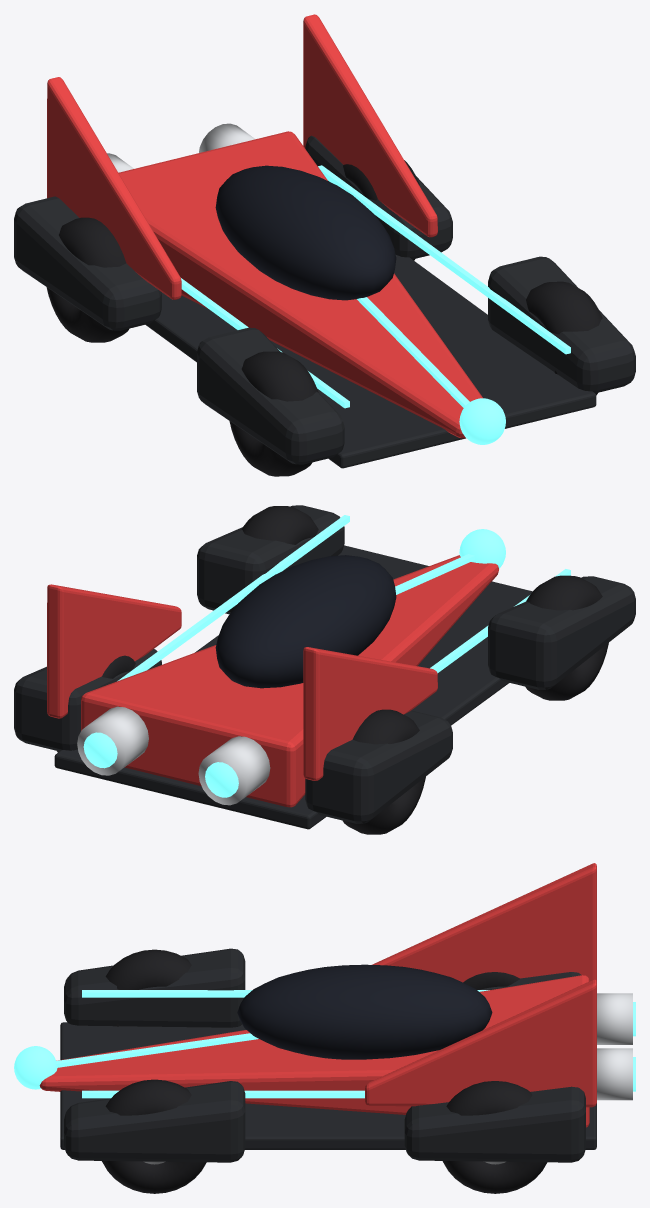
Rendered from kart-laser.glb.
3 views of the same model, one above another, from view 1: azimuth 30°, elevation 25°; view 2: azimuth 150°, elevation 25°; view 3: azimuth 270°, elevation 25° (orthographic). The views are drawn at different scales.
Visible parts, largest first — view 1: Hull.009, Box.045, Ball.009, Hull.013, Hull.010, Hull.011, Hull.012, Hull.014, Wheel_FL.004, Wheel_RL.004, Hull.015, Wheel_FR.004 (+5 smaller); view 2: Hull.009, Ball.009, Box.045, Hull.013, Hull.011, Hull.010, Hull.012, Hull.014, Hull.015, Wheel_FL.004, Wheel_RL.004, Cyl.007 (+9 smaller); view 3: Ball.009, Hull.009, Hull.013, Hull.010, Box.045, Hull.014, Hull.015, Hull.011, Wheel_FR.004, Wheel_RR.004, Wheel_FL.004, Cyl.009 (+7 smaller).
Boxes of the visible parts, bbox=[...] form: Hull.009: bbox=[118, 131, 482, 438]; Box.045: bbox=[145, 255, 596, 468]; Ball.009: bbox=[215, 165, 396, 300]; Hull.013: bbox=[303, 14, 437, 237]; Hull.010: bbox=[47, 77, 181, 299]; Hull.011: bbox=[197, 327, 344, 464]; Hull.012: bbox=[14, 196, 161, 330]; Hull.014: bbox=[488, 256, 635, 393]; Wheel_FL.004: bbox=[229, 351, 318, 476]; Wheel_RL.004: bbox=[46, 217, 129, 342]; Hull.015: bbox=[305, 135, 452, 259]; Wheel_FR.004: bbox=[526, 281, 602, 395]; Hull.009: bbox=[81, 555, 498, 807]; Ball.009: bbox=[215, 555, 396, 688]; Box.045: bbox=[54, 545, 532, 829]; Hull.013: bbox=[47, 584, 181, 718]; Hull.011: bbox=[488, 576, 635, 689]; Hull.010: bbox=[303, 647, 437, 780]; Hull.012: bbox=[305, 710, 452, 823]; Hull.014: bbox=[197, 505, 344, 614]; Hull.015: bbox=[14, 649, 161, 751]; Wheel_FL.004: bbox=[525, 575, 608, 700]; Wheel_RL.004: bbox=[343, 709, 425, 834]; Cyl.007: bbox=[198, 736, 270, 805]; Ball.009: bbox=[237, 964, 492, 1059]; Hull.009: bbox=[39, 975, 589, 1127]; Hull.013: bbox=[365, 979, 596, 1107]; Hull.010: bbox=[372, 863, 596, 982]; Box.045: bbox=[60, 1022, 596, 1149]; Hull.014: bbox=[64, 1081, 245, 1162]; Hull.015: bbox=[404, 1086, 585, 1162]; Hull.011: bbox=[64, 948, 245, 1027]; Wheel_FR.004: bbox=[102, 1079, 206, 1193]; Wheel_RR.004: bbox=[442, 1081, 547, 1193]; Wheel_FL.004: bbox=[105, 949, 191, 1026]; Cyl.009: bbox=[597, 1048, 632, 1100].
Size of the model in its own units: 2.65 by 1.54 by 4.29.
